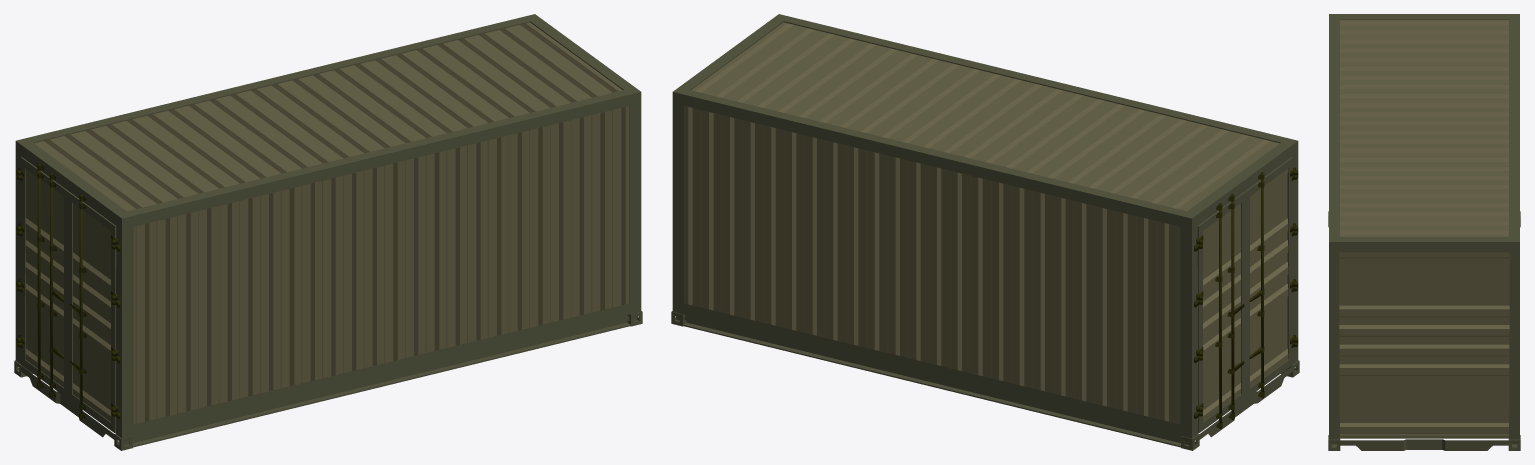
The model's file is conteiner.fbx.
3 views of the same model, side by side, from view 1: azimuth 30°, elevation 25°; view 2: azimuth 150°, elevation 25°; view 3: azimuth 270°, elevation 25° (orthographic). The views are drawn at different scales.
Parts seen in each view (by area): view 1: walls, kourners, right door, left door, left hendle, right hendle; view 2: walls, kourners, right door, left door, left hendle, right hendle; view 3: walls, kourners.
Part boxes in pixels (x1,y1,x2,y2): walls: [21, 22, 629, 424]; kourners: [14, 14, 642, 450]; right door: [68, 191, 116, 433]; left door: [21, 157, 68, 398]; left hendle: [37, 163, 64, 398]; right hendle: [69, 194, 86, 419]; walls: [684, 22, 1292, 424]; kourners: [671, 14, 1299, 450]; right door: [1245, 157, 1292, 398]; left door: [1197, 191, 1245, 433]; left hendle: [1215, 194, 1244, 428]; right hendle: [1249, 172, 1264, 398]; walls: [1339, 19, 1509, 438]; kourners: [1328, 14, 1520, 450].
Bounding box in the file's own units: 506 × 213 × 179.
